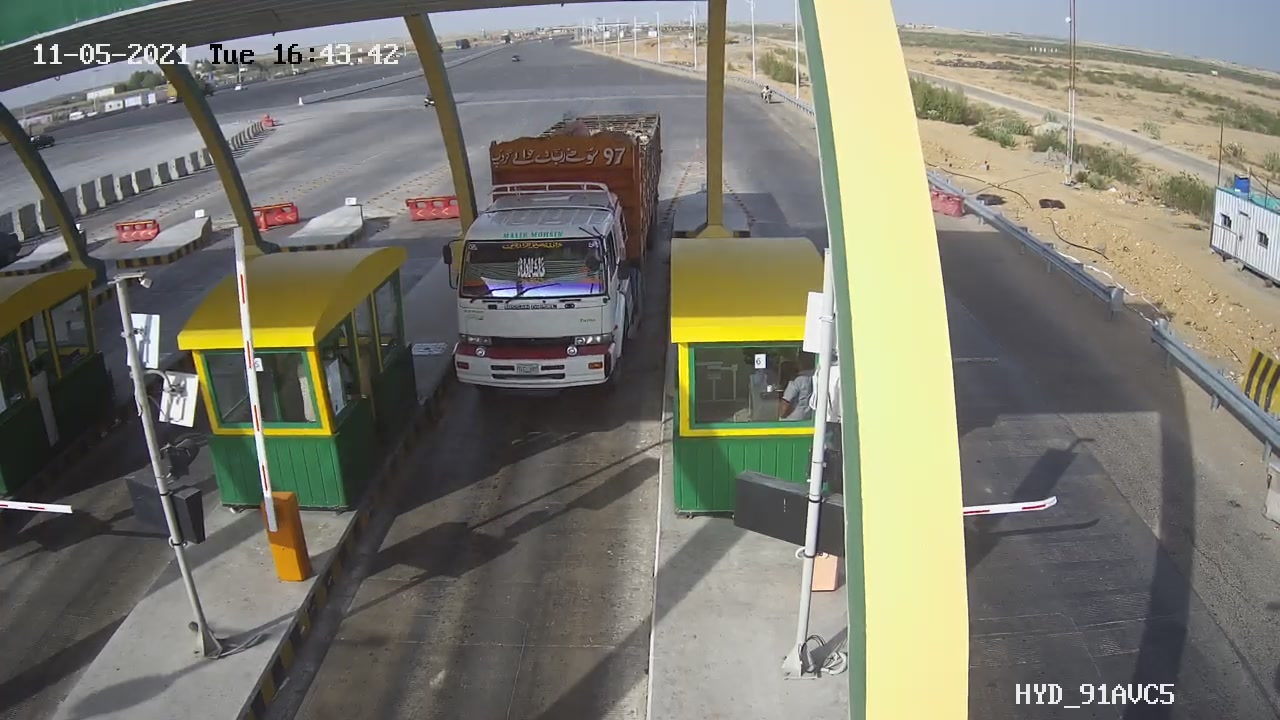F6: (426, 95, 681, 425)
